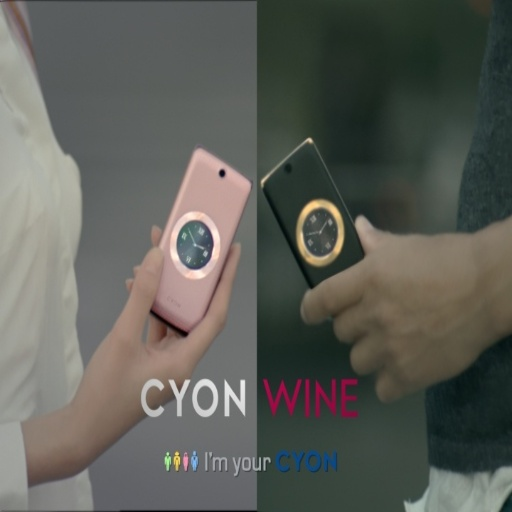hand: (68, 221, 241, 461), (322, 188, 499, 417)
